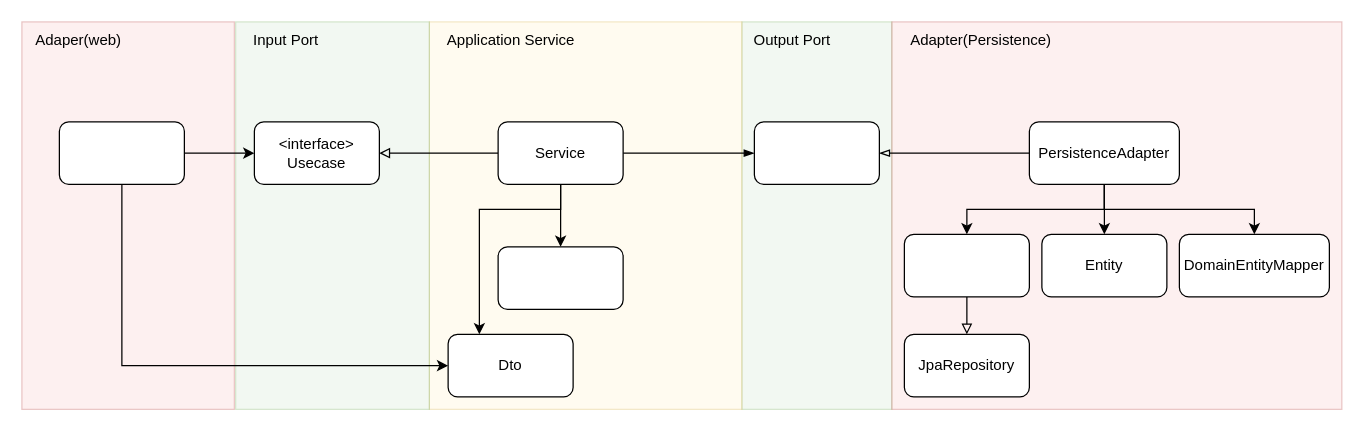
Some shapes in this 1364 by 431 pixel diagram are drawn without their labels. Here are the shapes that lost their labels. From the top down, the centre of each, then its label:
pixel 121 152: Controller
pixel 816 152: <interface> PersistencePort
pixel 560 277: Domain
pixel 966 265: Repository
